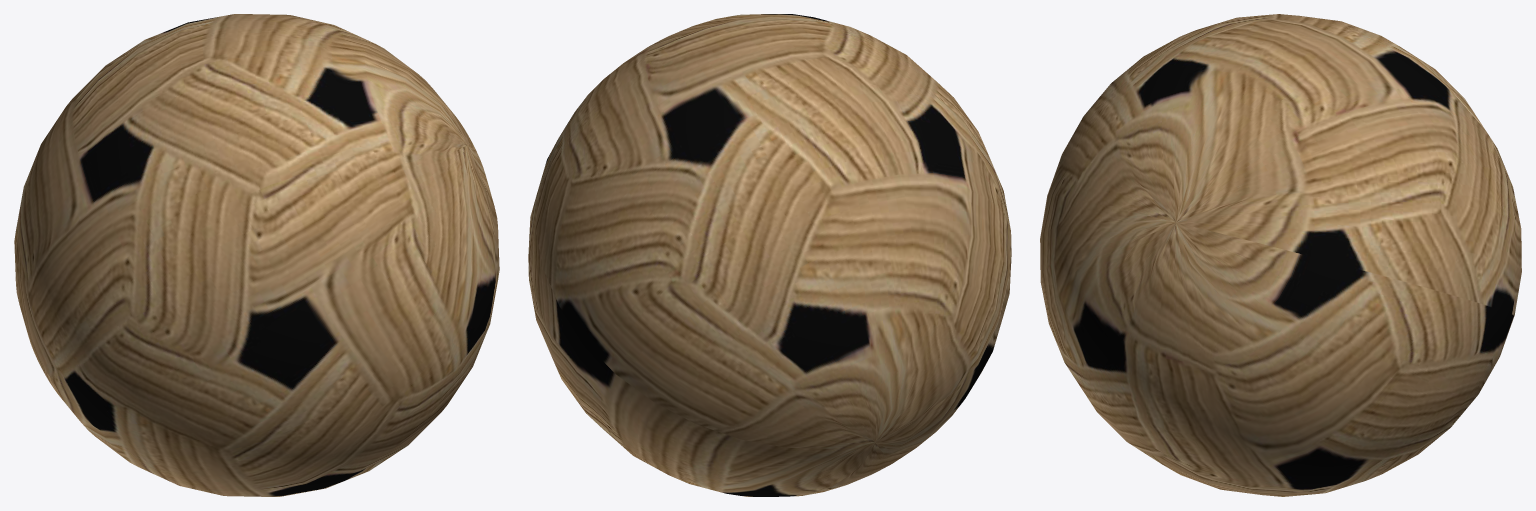
File: final takraw.glb
3 renders of one model, left to right at view 1: azimuth 30°, elevation 25°; view 2: azimuth 150°, elevation 25°; view 3: azimuth 270°, elevation 25°, orthographic.
Visible parts, largest first — view 1: Sphere_0; view 2: Sphere_0; view 3: Sphere_0.
Boxes of the visible parts, x1,y1,x2,y2 form: Sphere_0: (14, 14, 499, 496); Sphere_0: (528, 14, 1011, 496); Sphere_0: (1040, 14, 1521, 496).
Bounding box in the file's own units: 2.23 × 2.23 × 2.23.
Materials: 1 (1 with a texture image).
